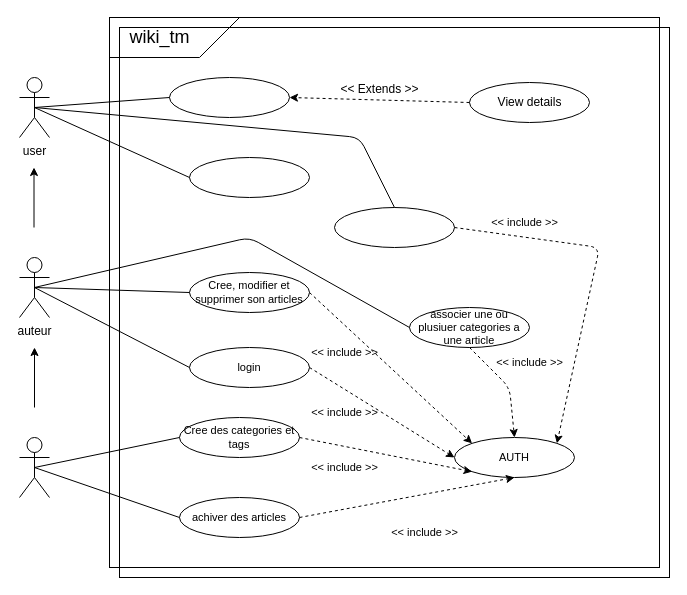
Some shapes in this 687 by 595 pixel diagram are drawn without their labels. The shapes that lost their labels are listed below. From the top down, each one's box as (x1, y1, x2, y2) in pixels, then its label:
(168, 76, 290, 118): Voir les articles
(188, 156, 310, 198): Recherche les articles
(334, 206, 454, 248): Cree un compte et se connecter
(18, 436, 50, 498): admin
